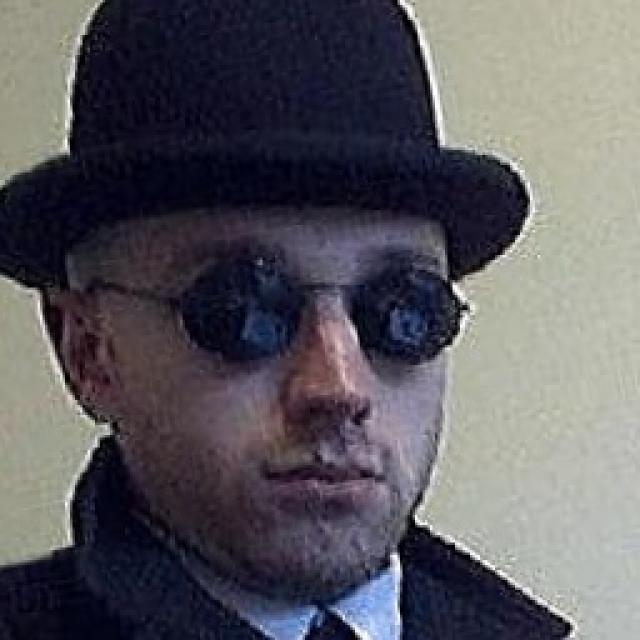glasses: (89, 237, 488, 380)
